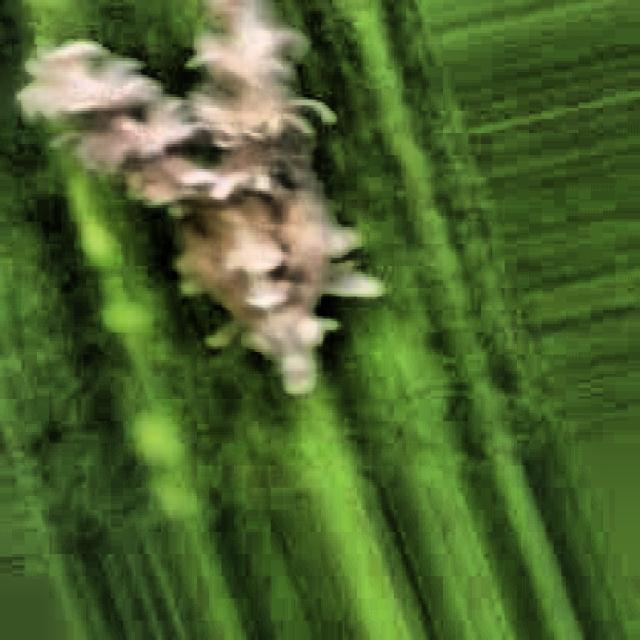Pyrilla-perpusilla: (6, 0, 397, 428)
